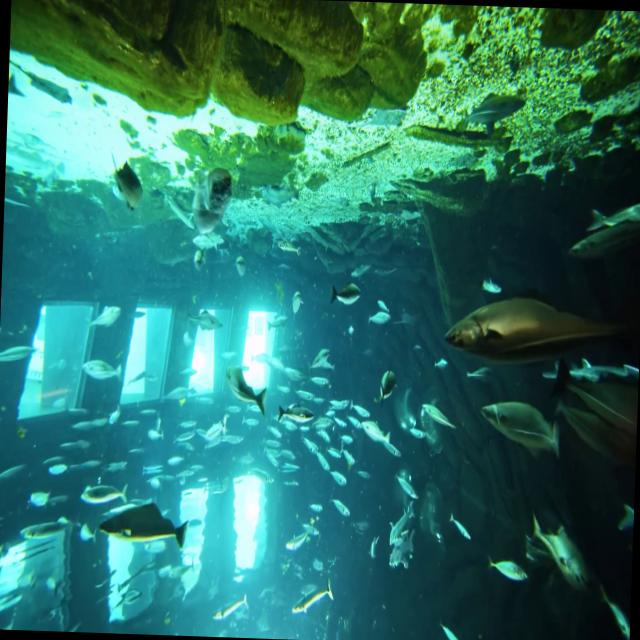fish: (438, 289, 635, 372), (545, 352, 639, 456), (522, 506, 597, 615), (474, 394, 564, 475), (94, 491, 192, 560), (561, 220, 640, 277), (219, 360, 270, 422), (106, 157, 154, 215), (76, 350, 127, 398), (292, 569, 338, 621), (18, 514, 80, 552), (78, 474, 126, 520), (280, 516, 324, 564), (595, 583, 631, 640), (178, 298, 224, 342), (489, 549, 533, 594), (208, 588, 254, 628), (84, 299, 127, 341), (274, 396, 318, 436), (418, 399, 456, 438), (0, 335, 39, 373), (355, 412, 394, 450), (196, 407, 226, 453), (372, 364, 397, 412), (324, 281, 364, 311), (393, 470, 419, 512), (362, 305, 392, 340), (444, 510, 474, 544)
